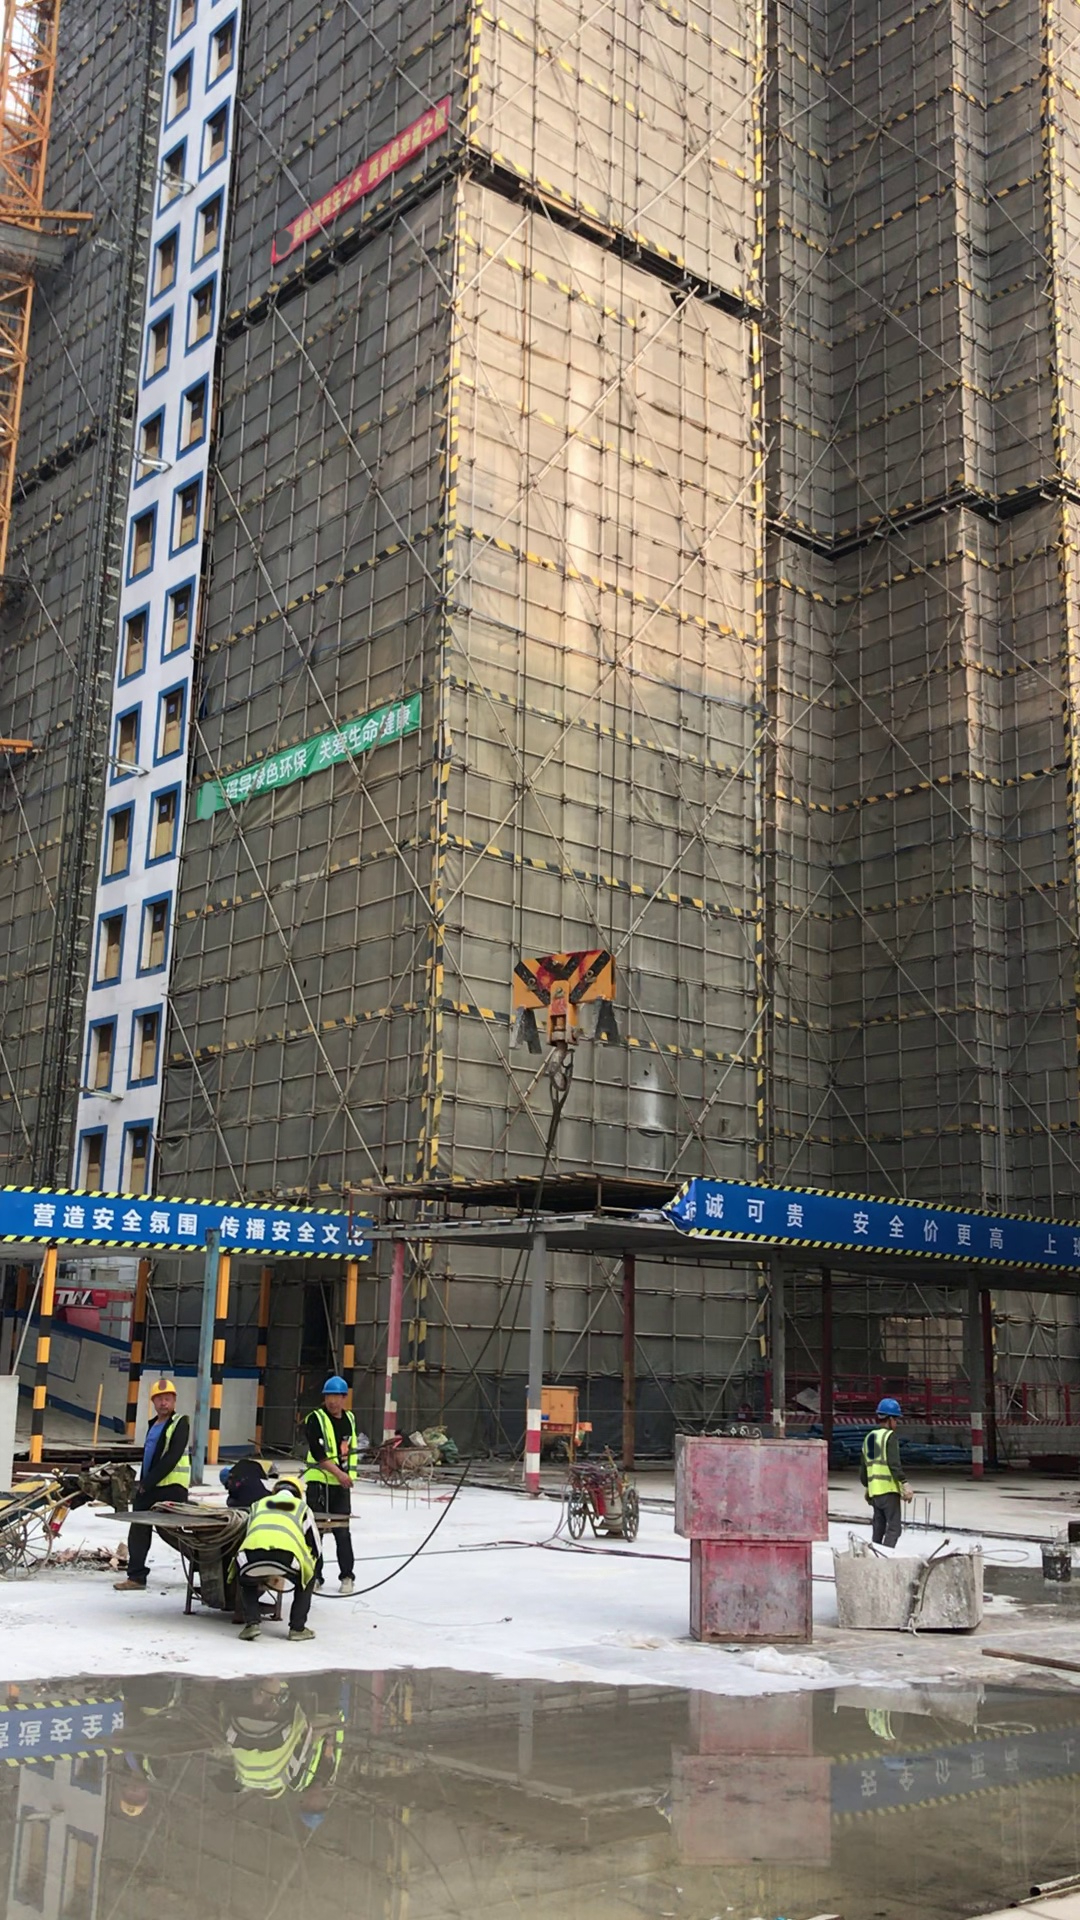ebox: (540, 1380, 580, 1431)
fence: (766, 1366, 1080, 1426)
handcart: (358, 1439, 443, 1488)
helmet: (269, 1472, 303, 1492), (147, 1379, 180, 1399), (322, 1377, 351, 1395), (876, 1396, 905, 1415)
hook: (503, 942, 639, 1061)
hopper: (830, 1529, 986, 1635)
person: (113, 1368, 225, 1607), (232, 1473, 327, 1652), (305, 1379, 379, 1593), (855, 1394, 933, 1551)
slogan: (674, 1167, 1080, 1271), (280, 80, 459, 245), (199, 709, 436, 815), (14, 1182, 368, 1251)
vest: (237, 1494, 325, 1585), (309, 1410, 361, 1486), (857, 1428, 911, 1495), (143, 1415, 191, 1489)
